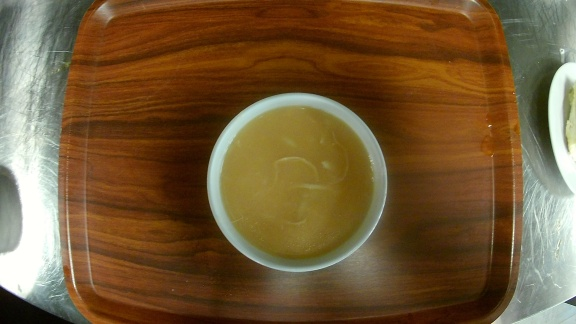tavukcorba: (205, 90, 390, 274)
